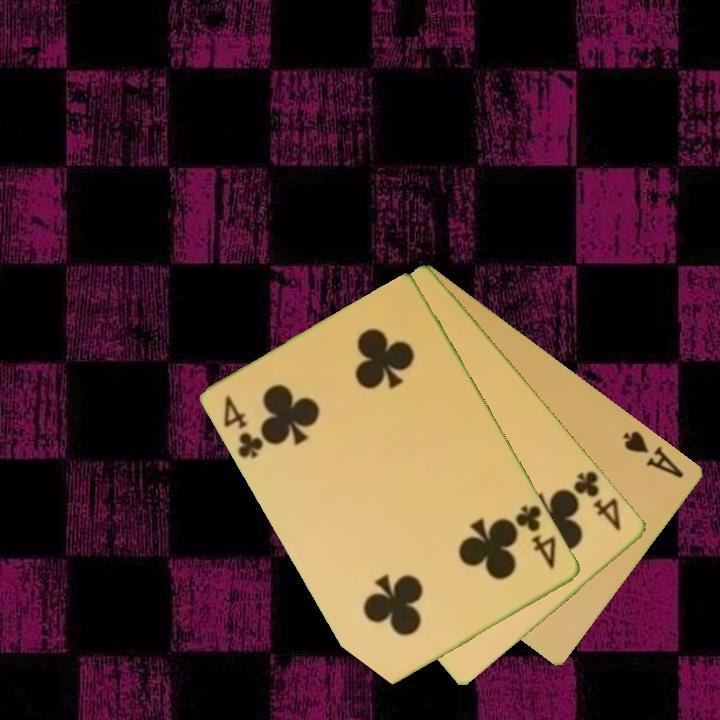4c: (570, 467, 625, 534), (512, 501, 560, 572), (220, 392, 268, 462)
As: (619, 427, 687, 481)
